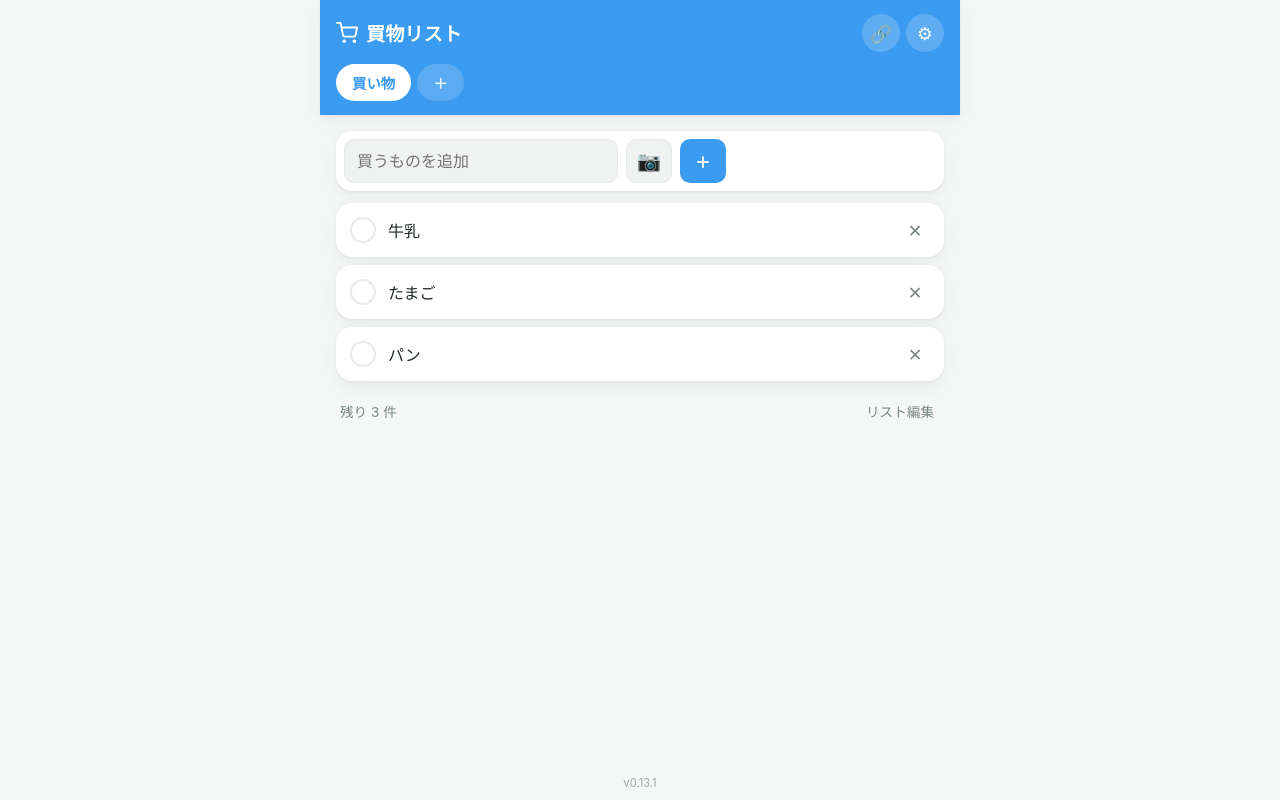
it: App (ローカルモード) › 共有シートを開ける（Firebase 設定済みなら共有開始ボタンを表示）
Click the button named "共有".
click(881, 33)  # box top-left (862, 14), bottom-right (900, 52)
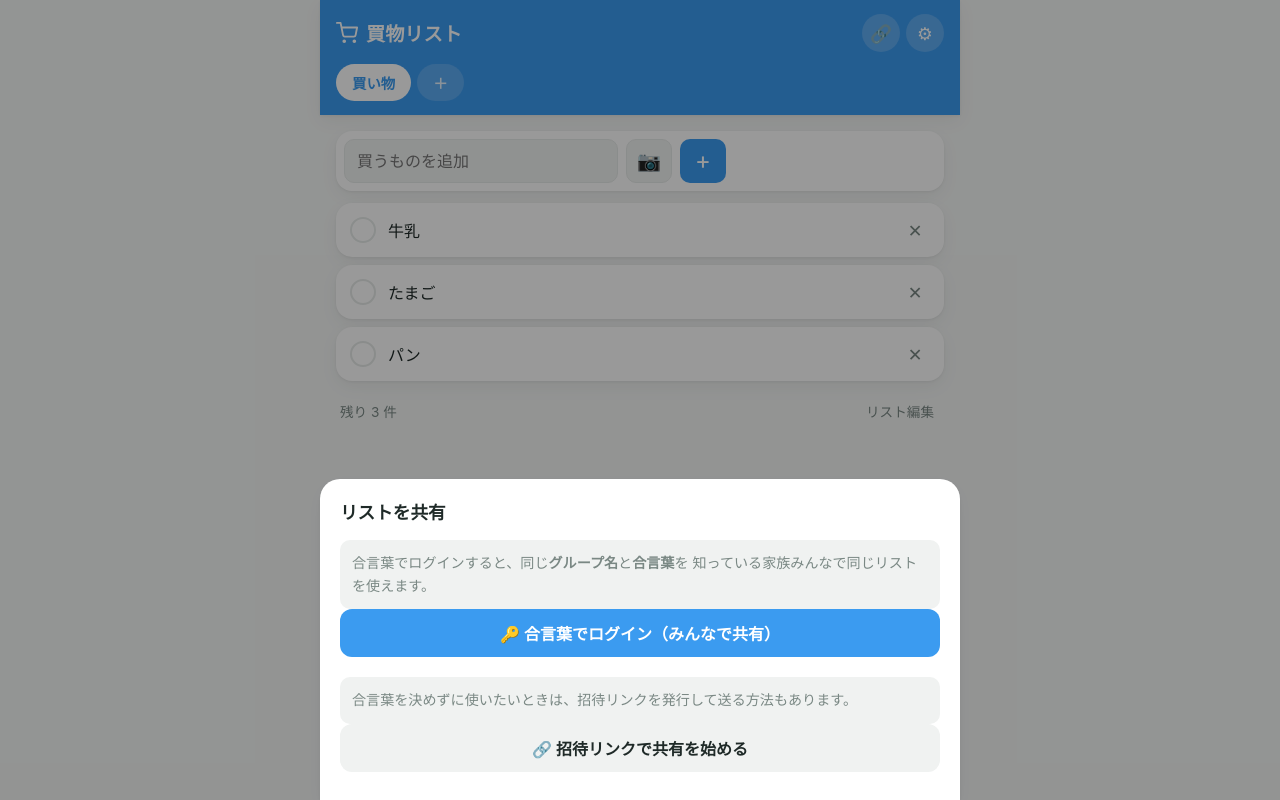
Now the dialog is shown, box top-left (320, 480), bottom-right (960, 799)
Now the button "🔗 招待リンクで共有を始める" is shown, box top-left (340, 724), bottom-right (940, 772)
